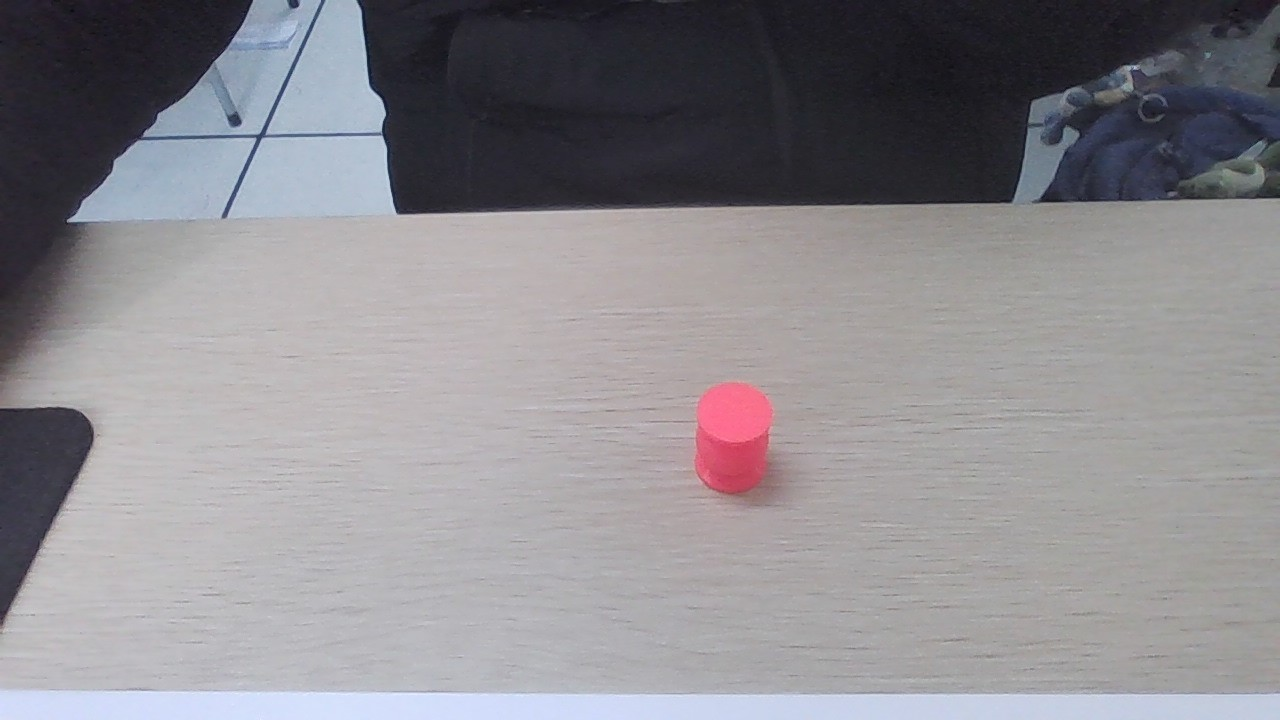KHS-plastic: (695, 384, 773, 488)
